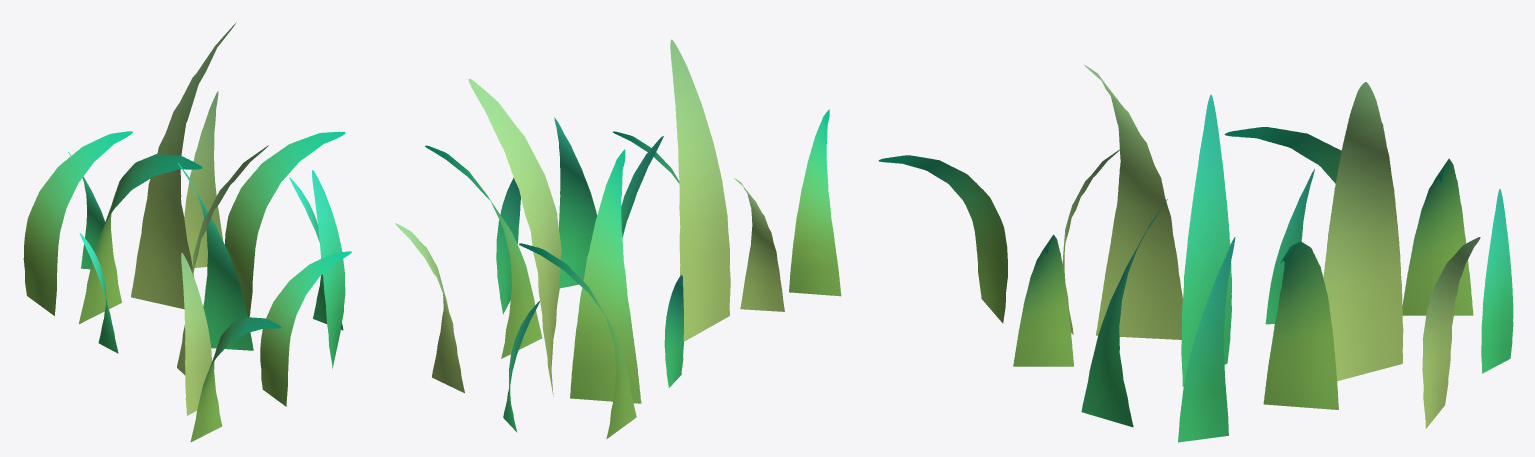
File: GrassBunch3.fbx
3 renders of one model, left to right at view 1: azimuth 30°, elevation 25°; view 2: azimuth 150°, elevation 25°; view 3: azimuth 270°, elevation 25°, orthographic. The views are drawn at different scales.
Parts seen in each view (by area): view 1: GrassBunch3; view 2: GrassBunch3; view 3: GrassBunch3.
Boxes of the visible parts, box(x1,y1,x2,y2) form: GrassBunch3: box(23, 22, 351, 441); GrassBunch3: box(395, 39, 841, 439); GrassBunch3: box(878, 64, 1513, 442).
Bounding box in the file's own units: 0.2615 × 0.2599 × 0.4066.
1 material, 1 textured.
